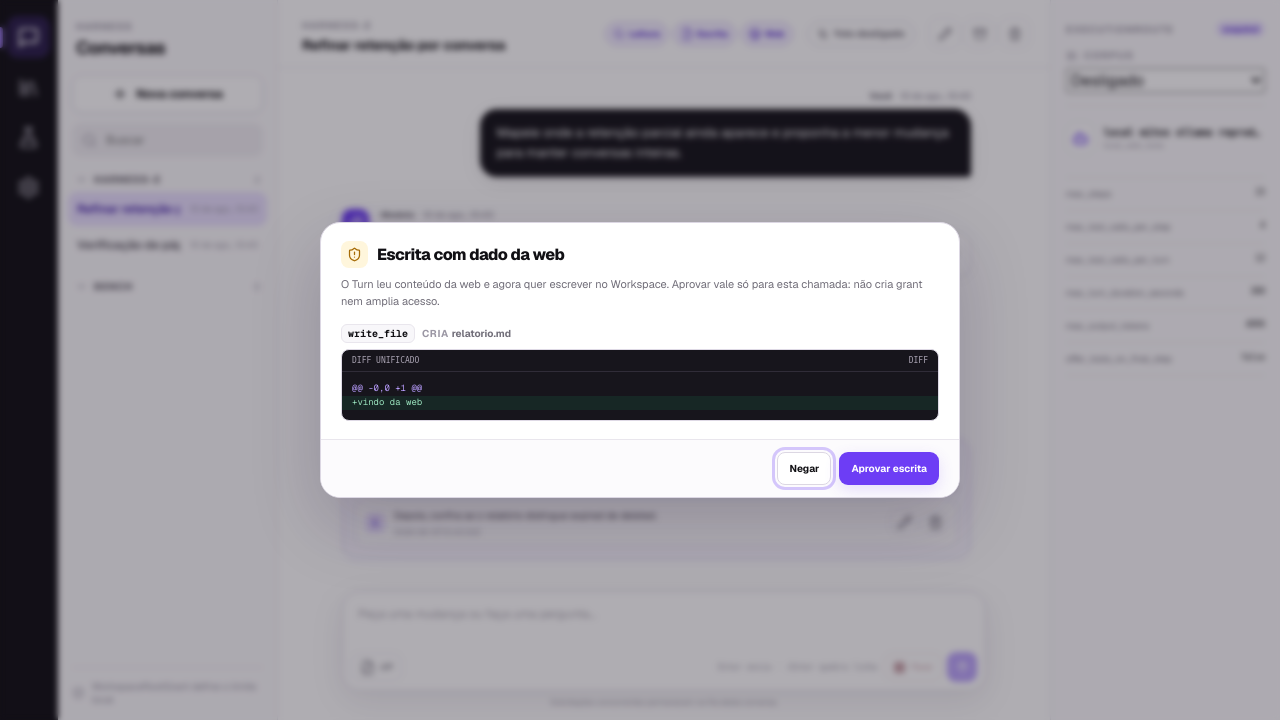
Test: App › aprova a escrita com dado da web só depois da decisão do Operator
Check: the heading "Escrita com dado da web" is shown, box [377,244,564,265]
Check: the text "write_file" is shown, box [341,324,415,343]
Escape must not answer for the Operator: the Turn is parked on this.
Press Escape
Check: the dialog is shown, box [320,222,960,498]
Click the button "Aprovar escrita" at (889, 468), box [839,452,939,485]
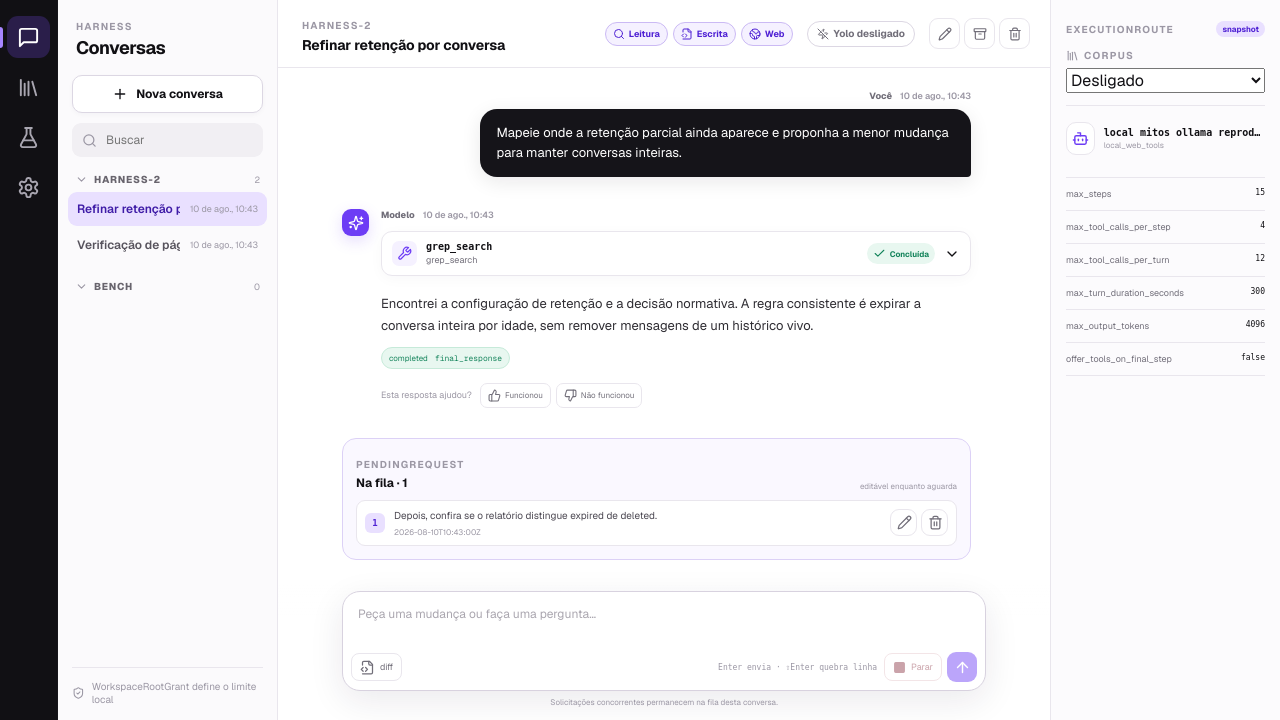
Check: the heading "Escrita com dado da web" is gone
